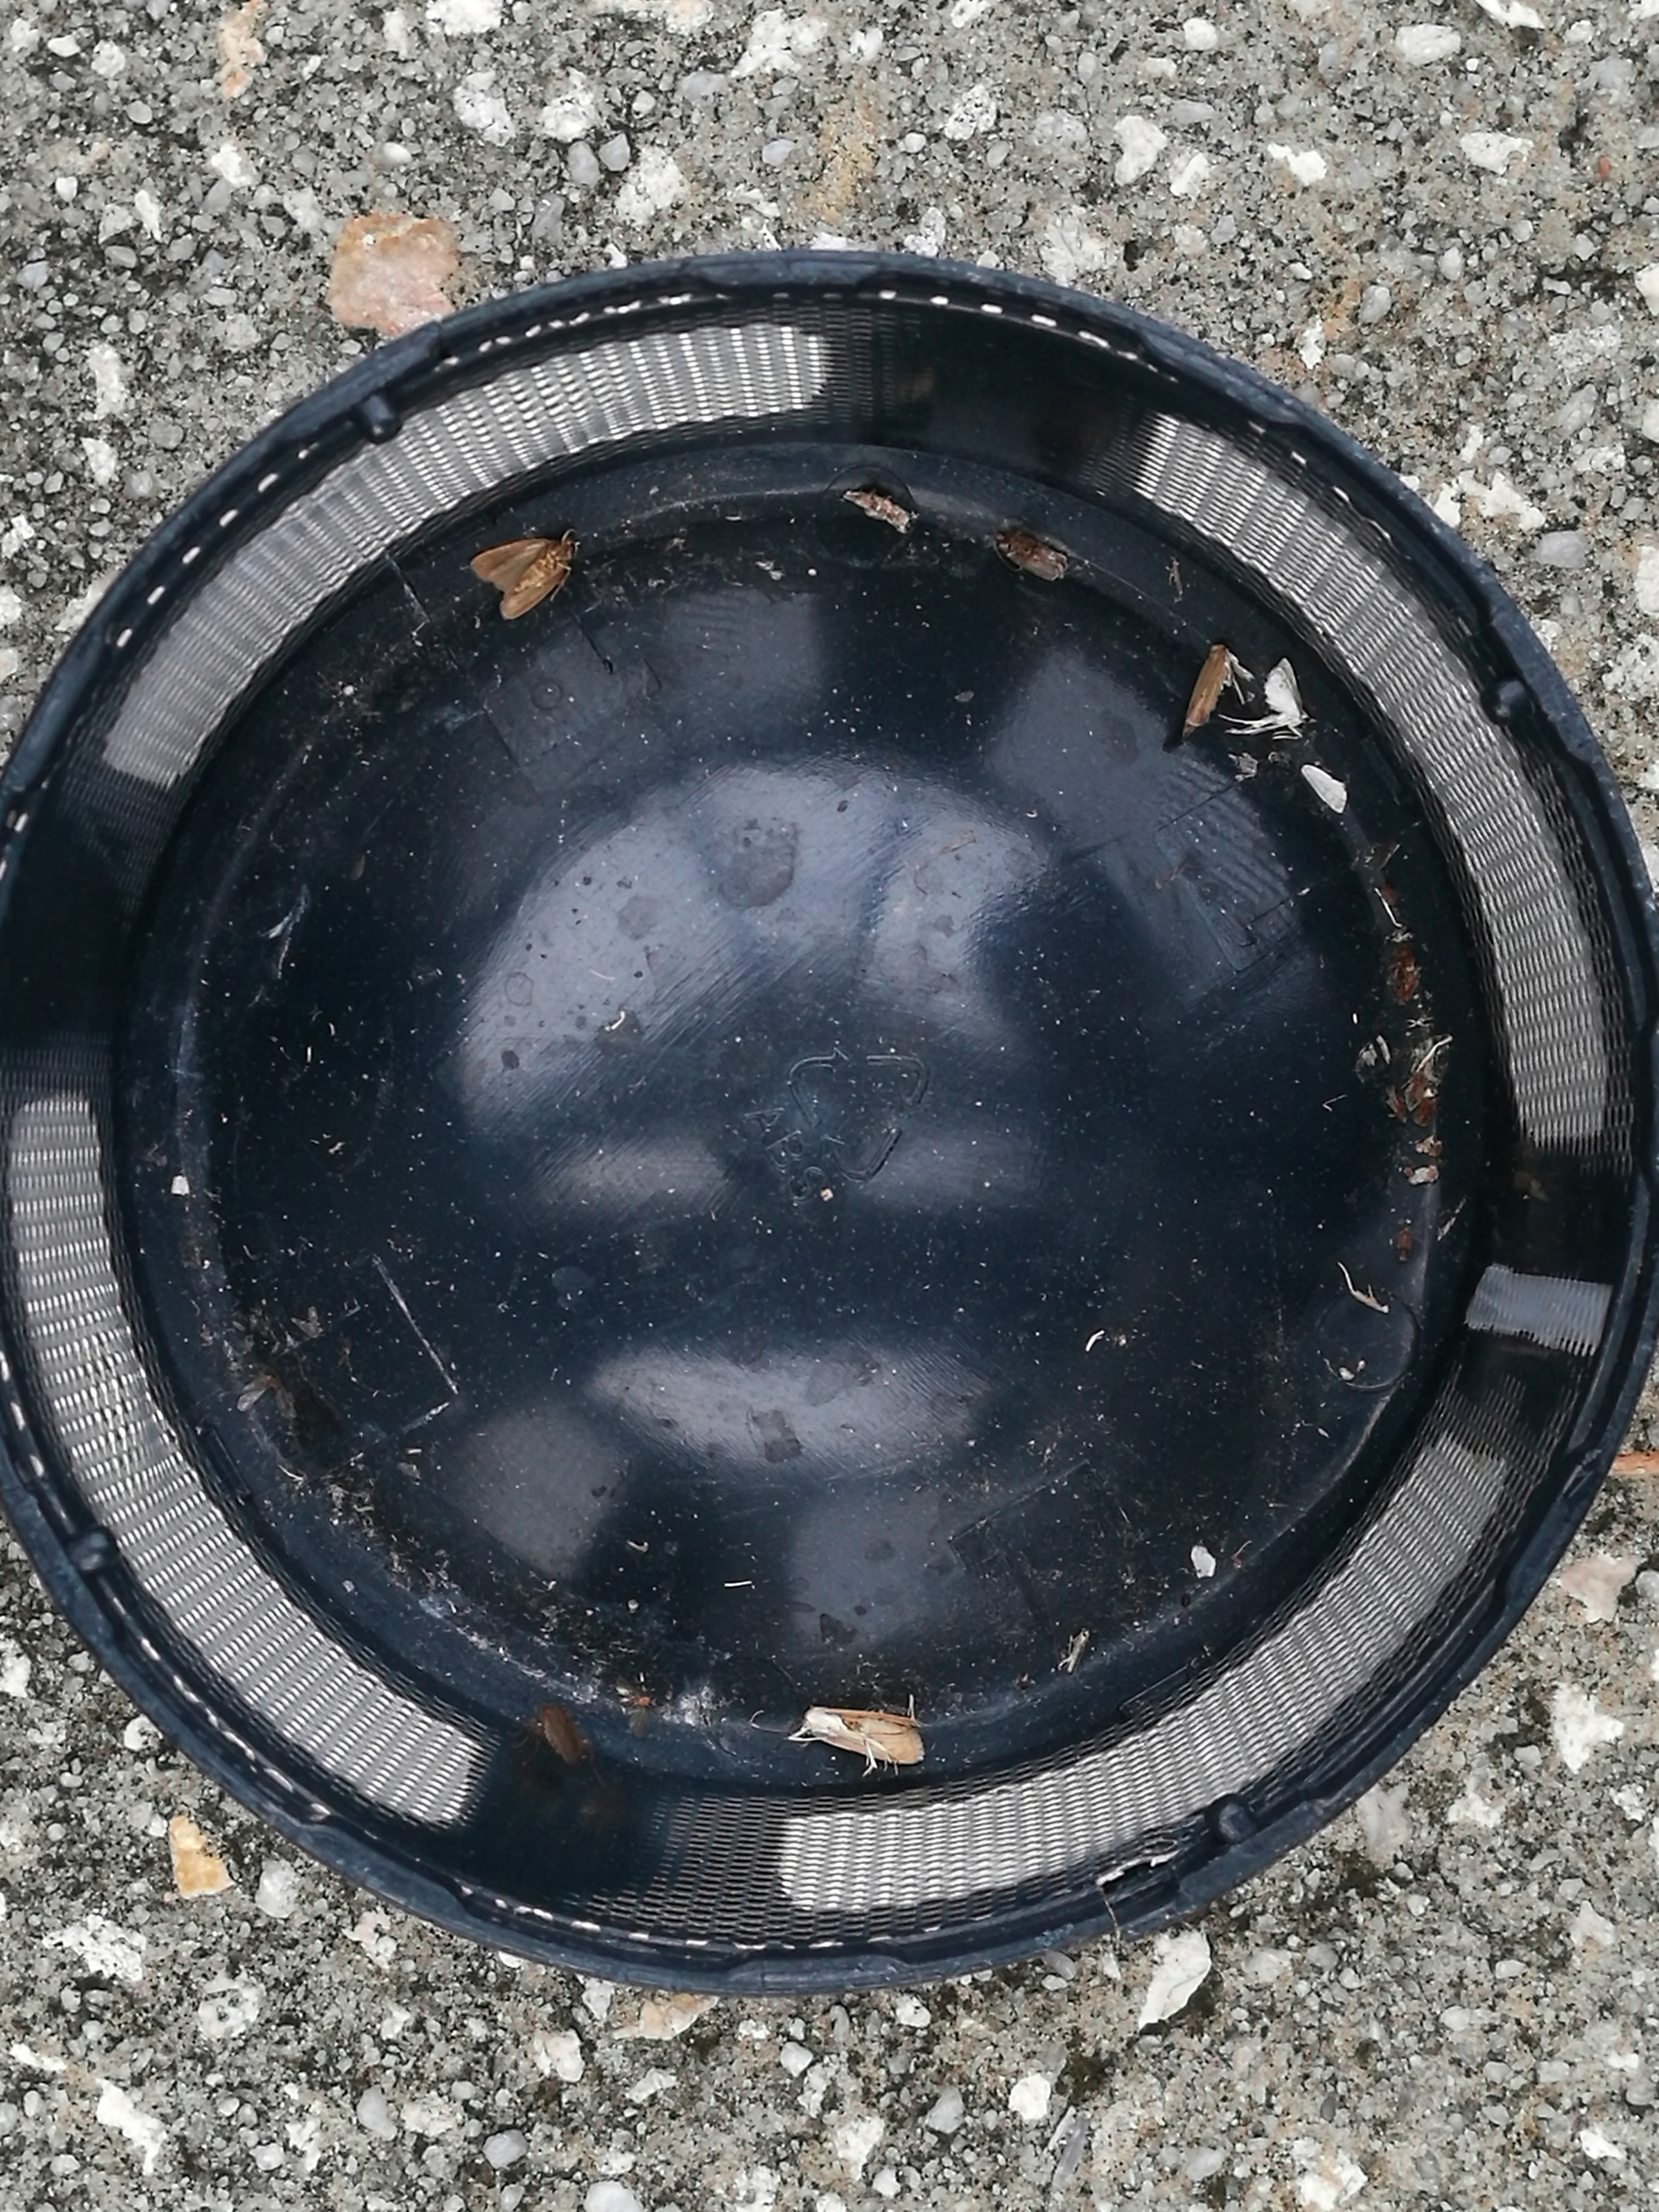mosquito: (805, 1707, 924, 1764), (1182, 644, 1229, 742), (999, 531, 1066, 580)
moth: (469, 535, 577, 618), (1265, 660, 1307, 732)
